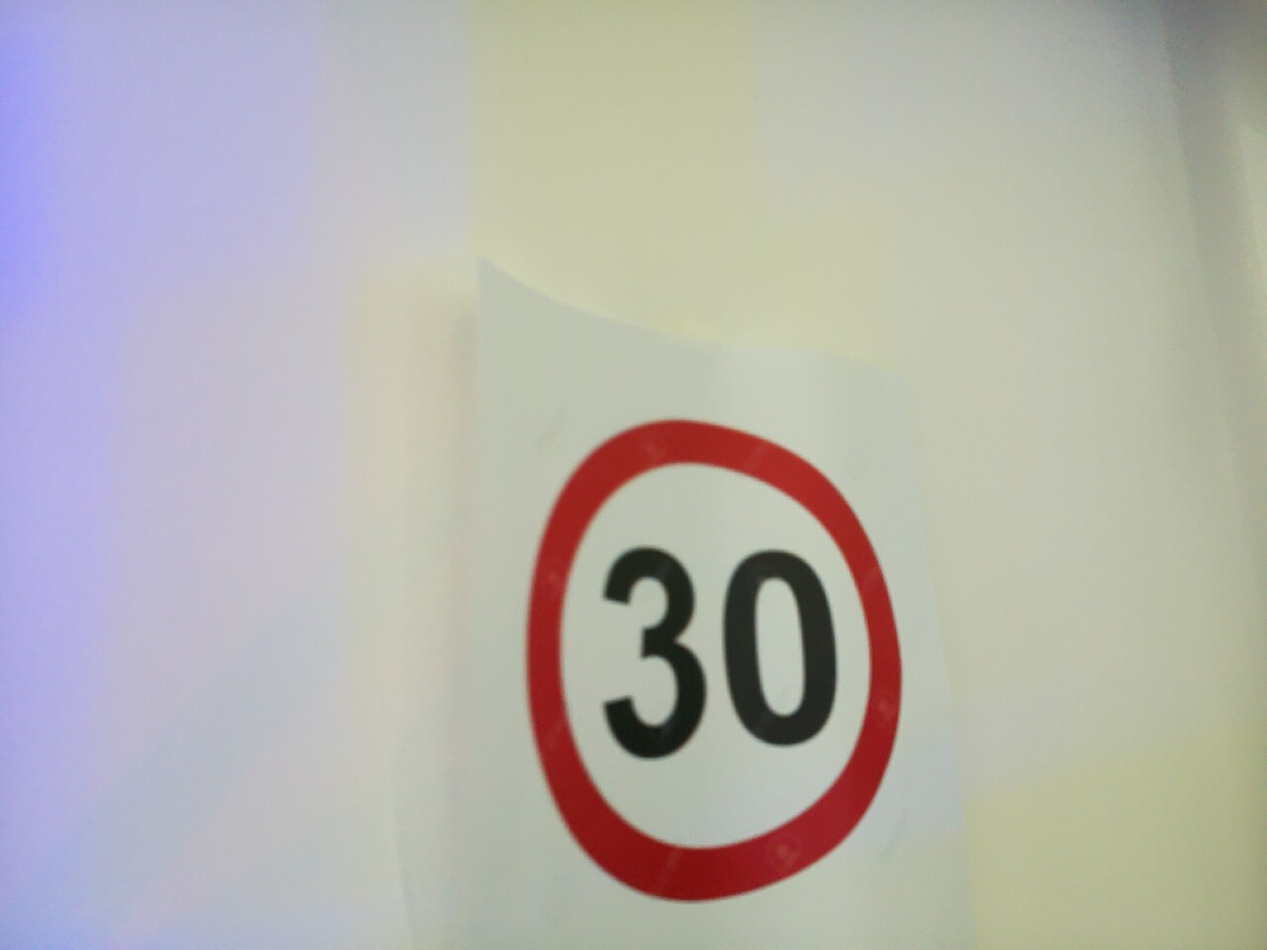speed_30: (717, 542, 842, 754)
